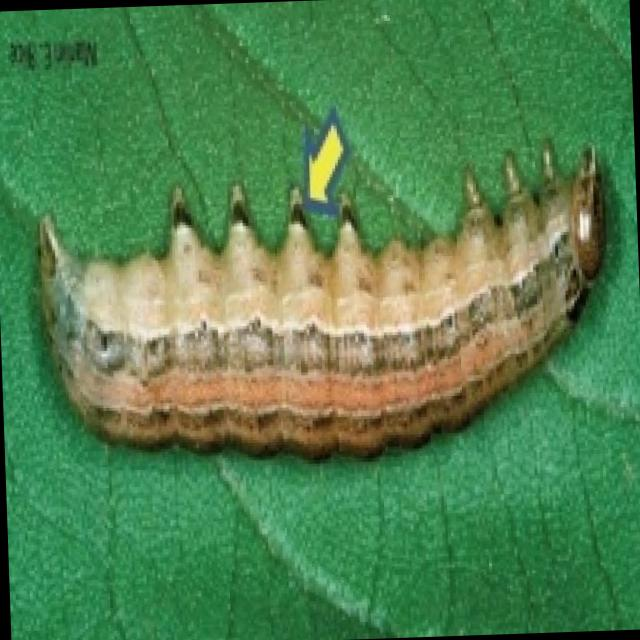armyworm: (21, 137, 632, 492)
